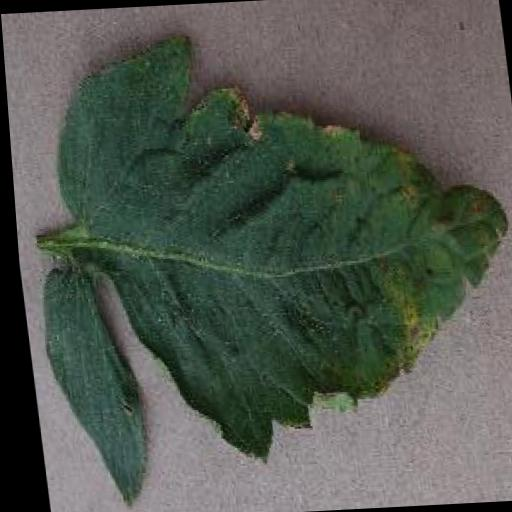Bacterial Spot: (6, 10, 512, 510)
